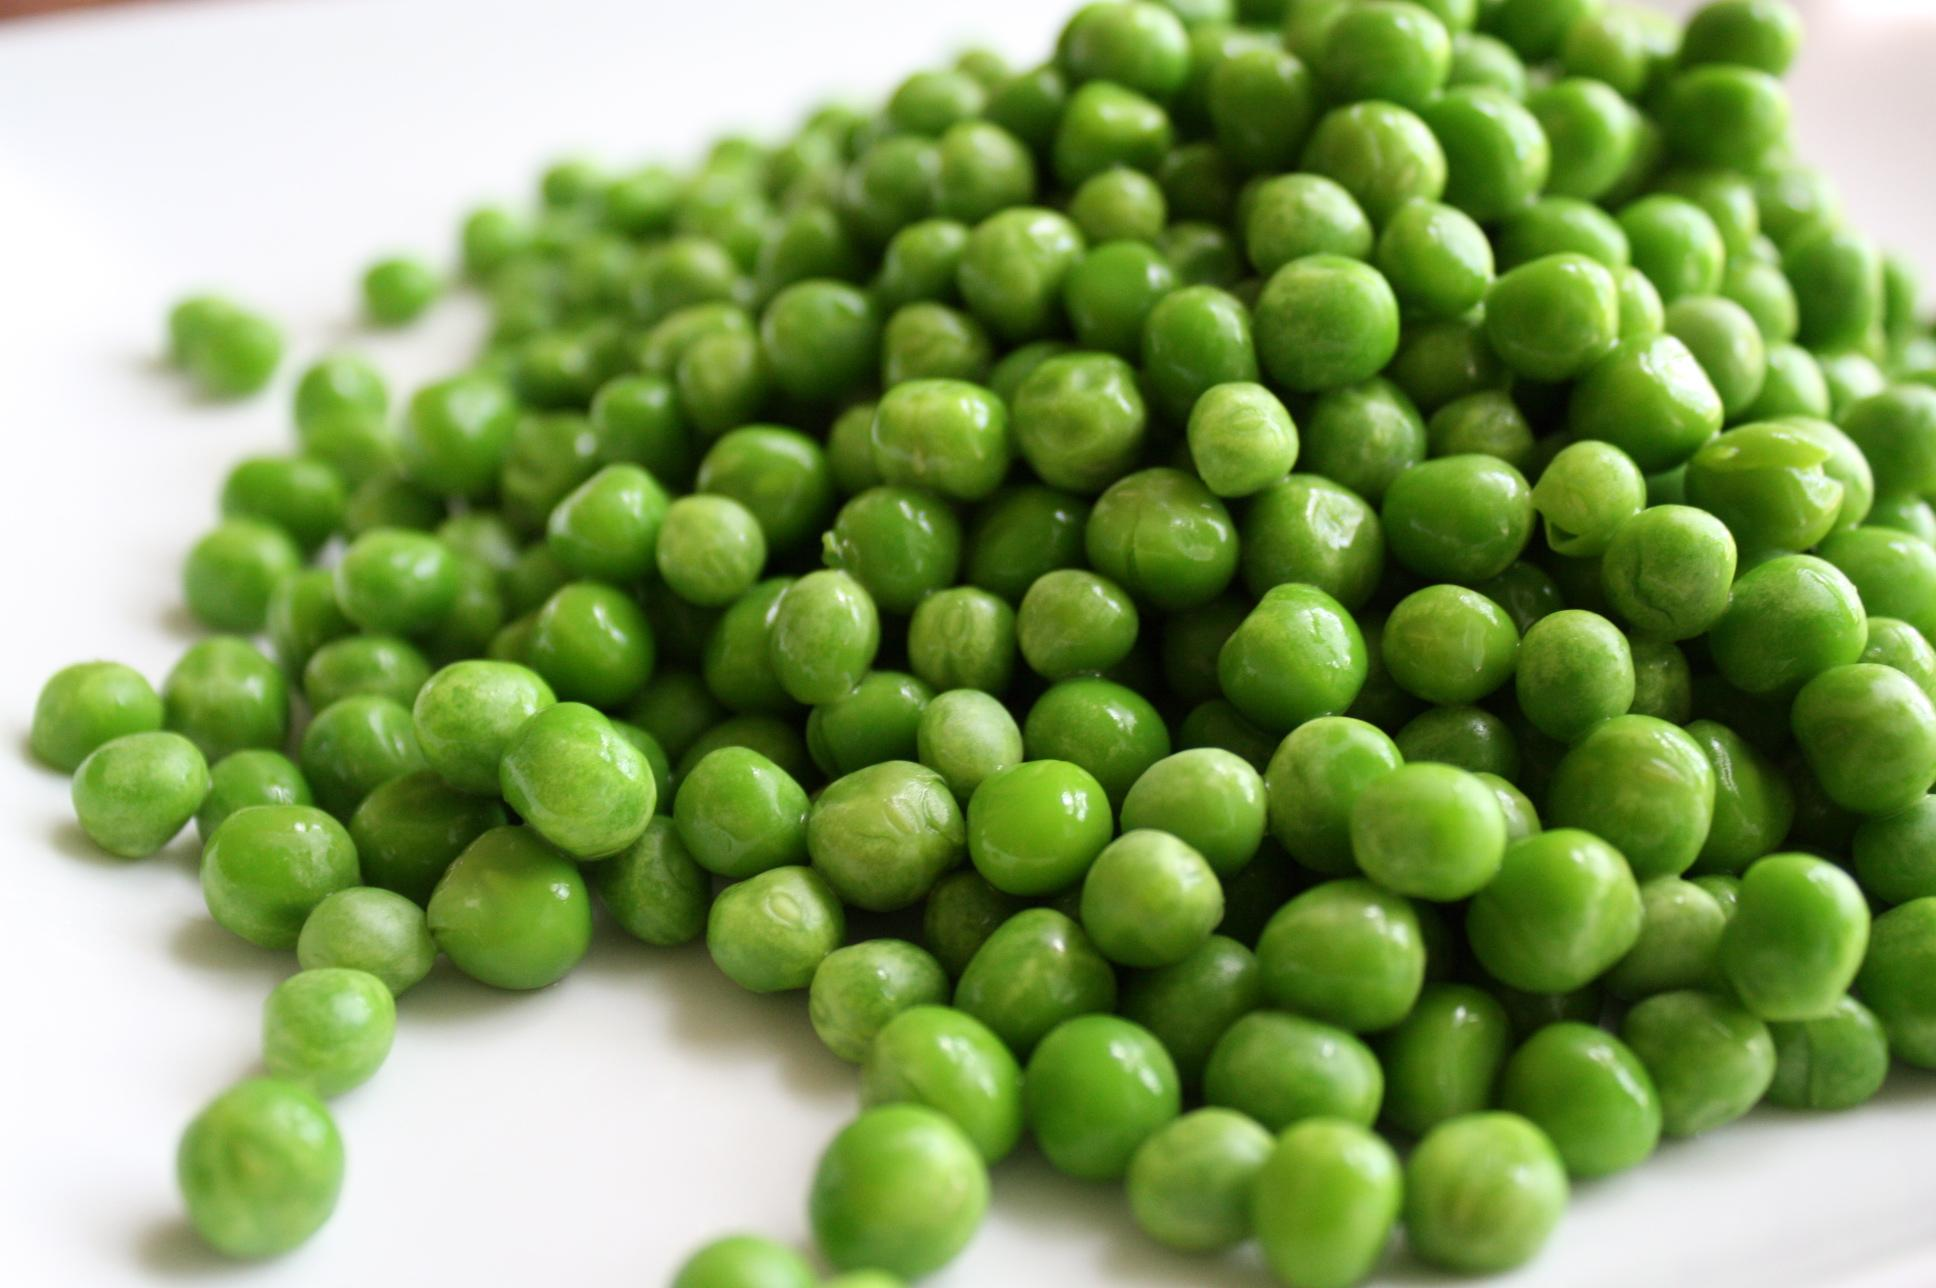peas: (27, 0, 1932, 1284), (175, 1074, 344, 1261), (1465, 825, 1644, 993), (425, 824, 592, 990), (497, 699, 657, 860), (805, 758, 964, 911), (1348, 759, 1508, 900), (1216, 581, 1368, 727), (1079, 827, 1225, 967), (1381, 451, 1534, 579), (70, 729, 211, 858), (260, 965, 397, 1097), (868, 377, 1010, 499), (1184, 379, 1299, 497), (165, 295, 280, 400)
